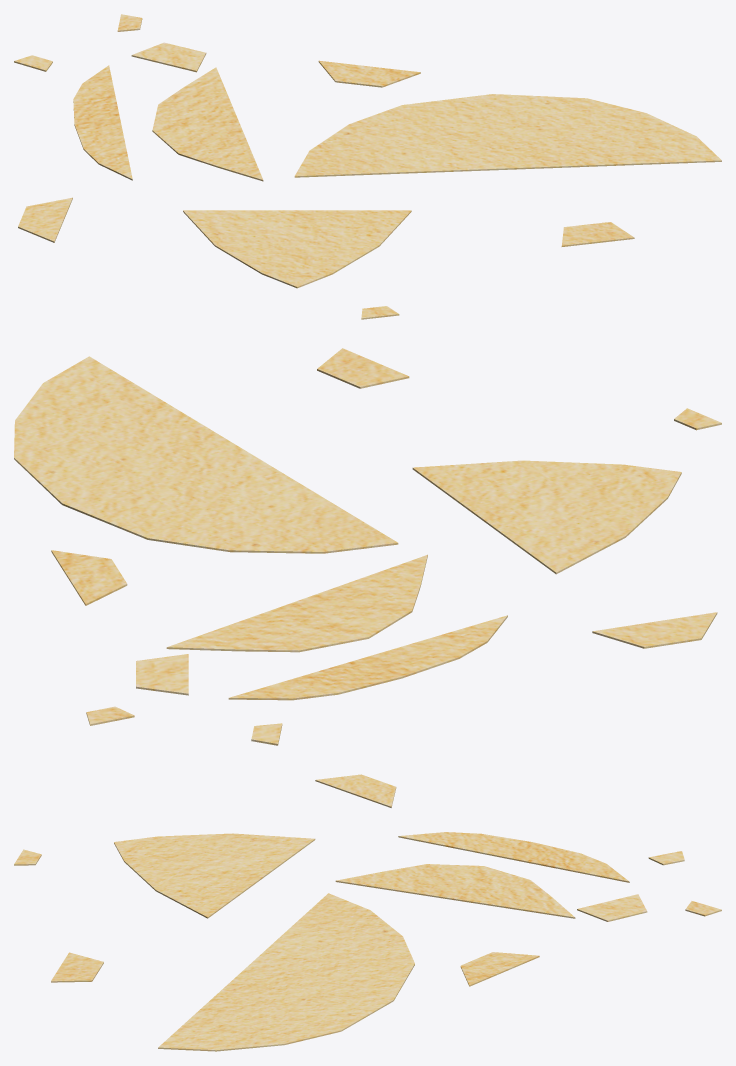
File: Snack 1.FBX
3 renders of one model, top to bottom at view 1: azimuth 30°, elevation 25°; view 2: azimuth 150°, elevation 25°; view 3: azimuth 270°, elevation 25°, orthographic. The views are drawn at different scales.
Parts seen in each view (by area): view 1: Snack; view 2: Snack; view 3: Snack.
Part boxes in pixels (x1=…): Snack: x1=14, y1=14, x2=721, y2=319; Snack: x1=14, y1=348, x2=721, y2=745; Snack: x1=14, y1=774, x2=721, y2=1051.
Bounding box in the file's own units: 12.36 × 0.0279 × 13.41.
